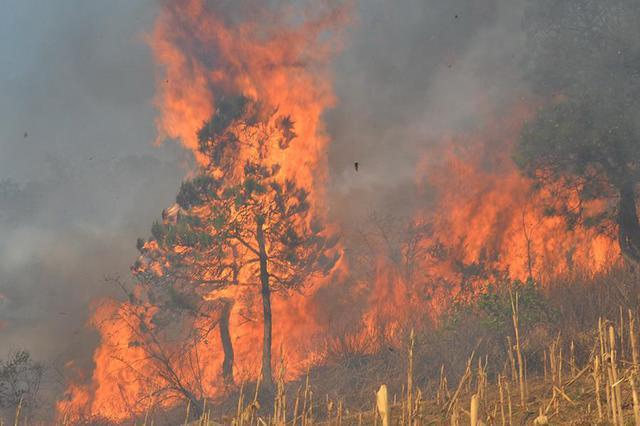fire: (142, 2, 358, 399), (363, 135, 628, 325), (58, 294, 164, 418)
